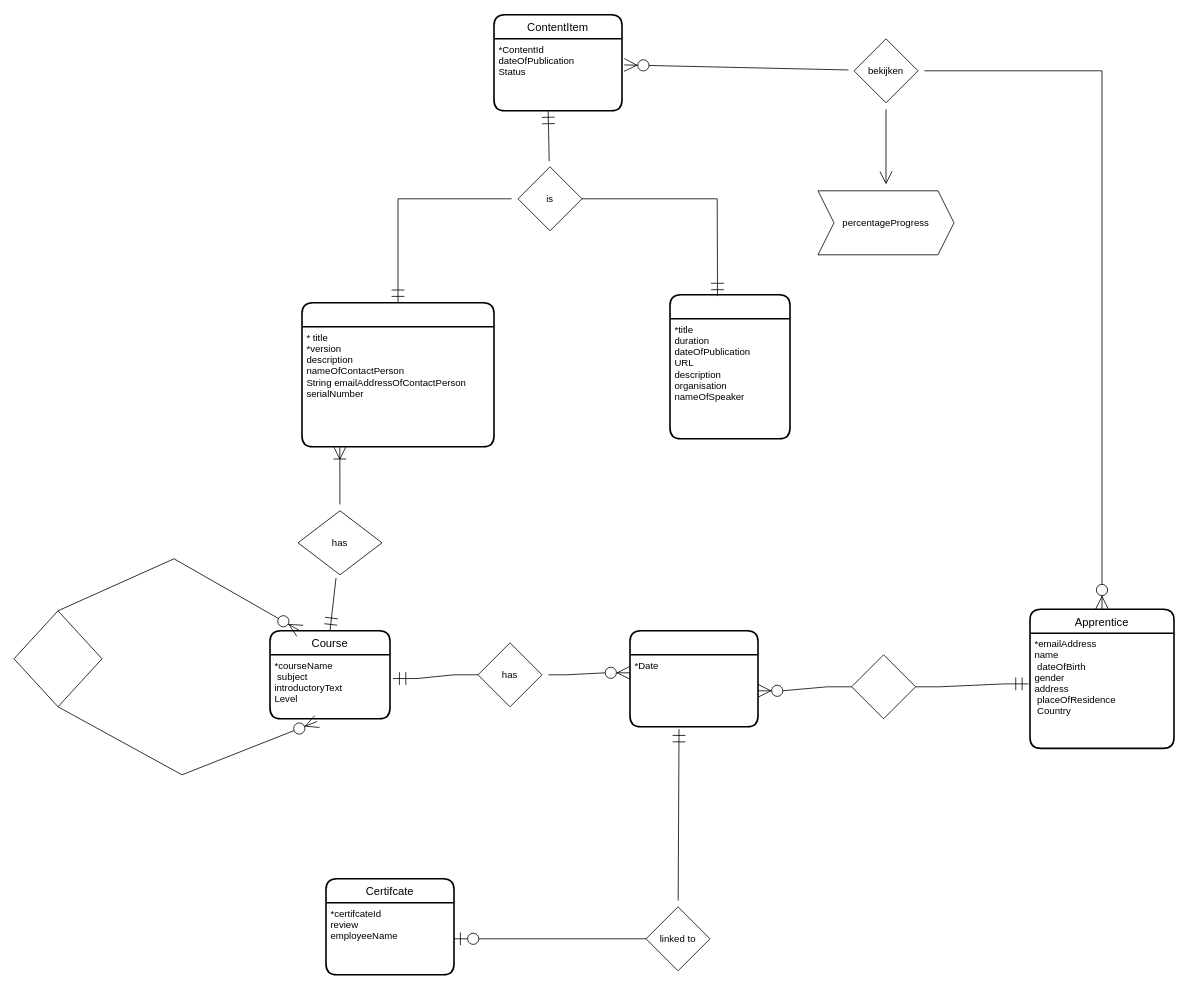
Some shapes in this 1189 by 990 pixel diagram are drawn without their labels. Each missing label, with the box of its shape:
Module: (301, 302, 494, 447)
RECOMMENDED COURSE: (13, 610, 102, 707)
Register: (851, 654, 916, 719)
Registration: (629, 630, 758, 727)
Webcast: (669, 294, 790, 439)
